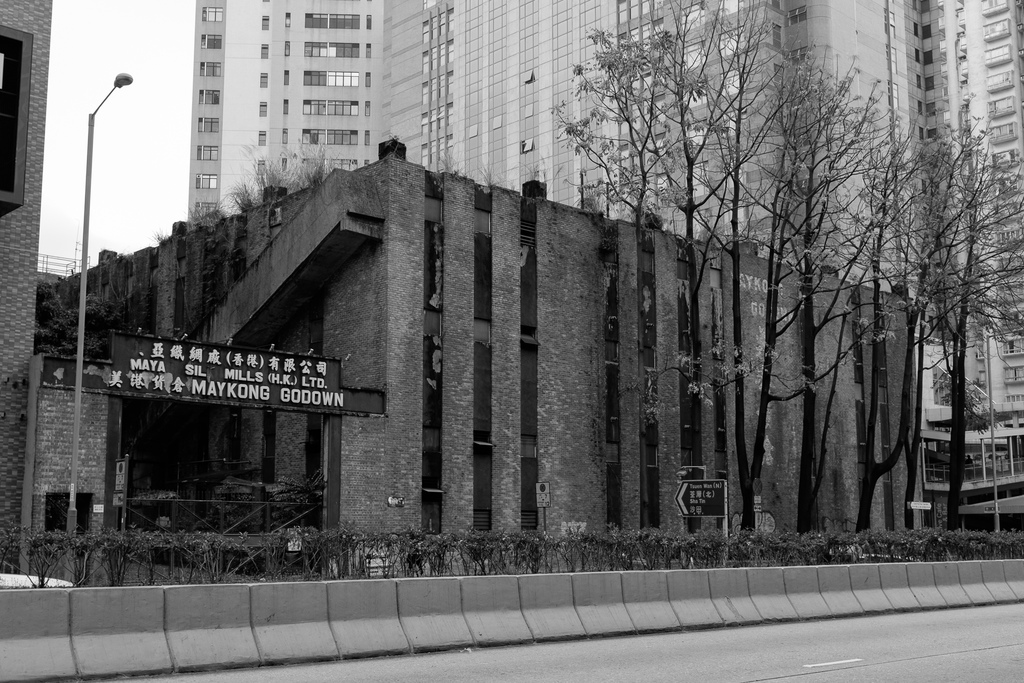Tree: (547, 0, 1023, 565), (33, 272, 122, 357)
